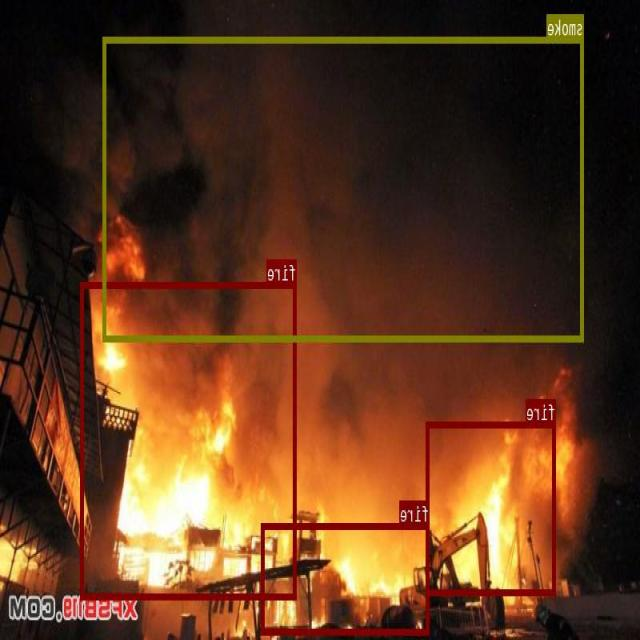fire: (81, 282, 298, 598), (427, 421, 556, 594), (262, 523, 430, 633)
smoke: (104, 36, 584, 341)
